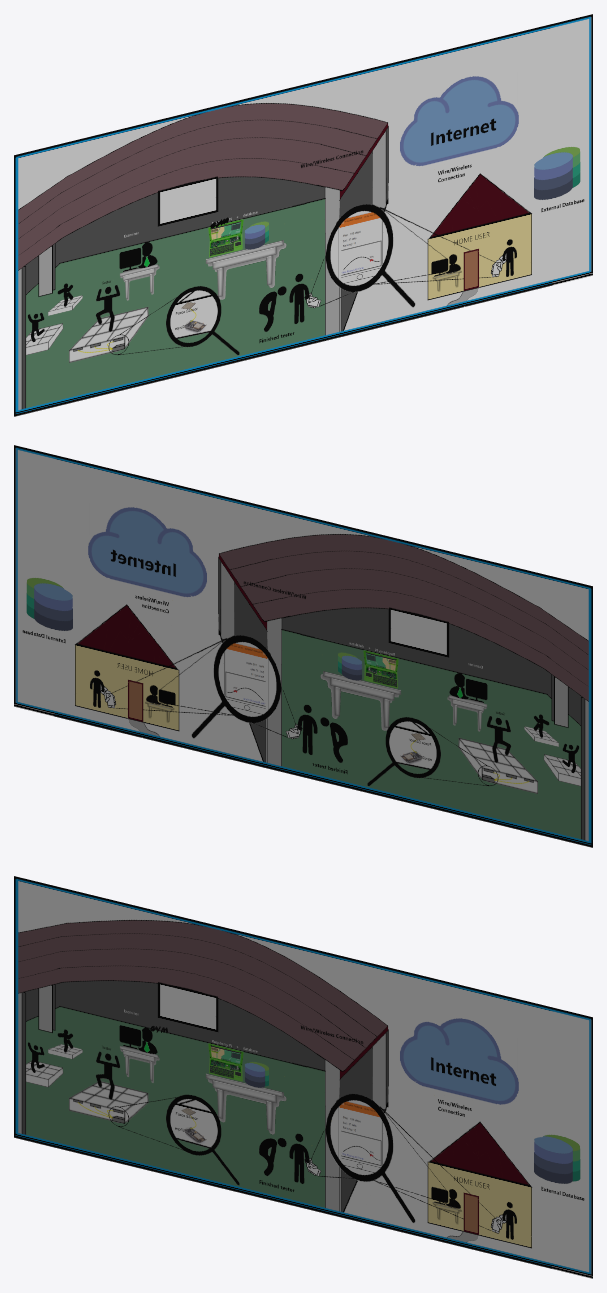
3 views of the same model, one above another, from view 1: azimuth 30°, elevation 25°; view 2: azimuth 150°, elevation 25°; view 3: azimuth 330°, elevation 25° (orthographic).
Visible parts, largest first — view 1: mesh_id7; view 2: mesh_id7; view 3: mesh_id7.
Boxes of the visible parts, <box> form: mesh_id7: <box>14,14,592,416</box>; mesh_id7: <box>14,445,592,847</box>; mesh_id7: <box>14,876,592,1278</box>.
Size of the model in its own units: 0.976 by 0.4215 by 0.0922.
Materials: 2 (2 with a texture image).
